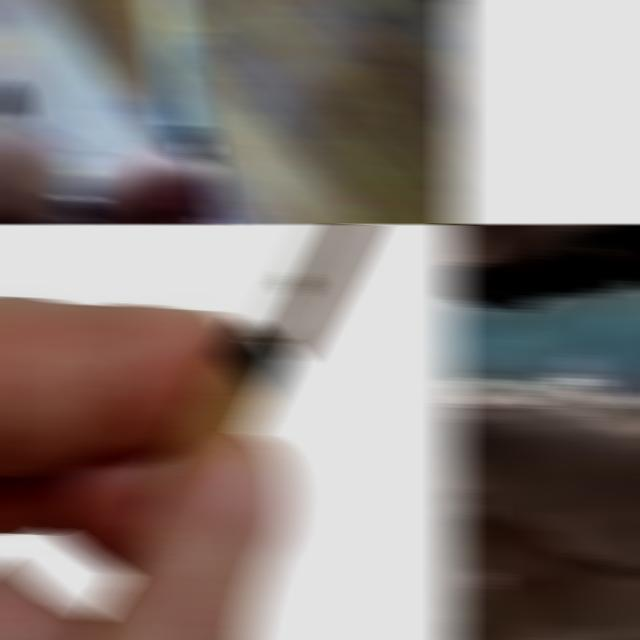Knife: (145, 224, 373, 494), (144, 0, 229, 224)
Knife_Handle: (69, 0, 273, 224)
